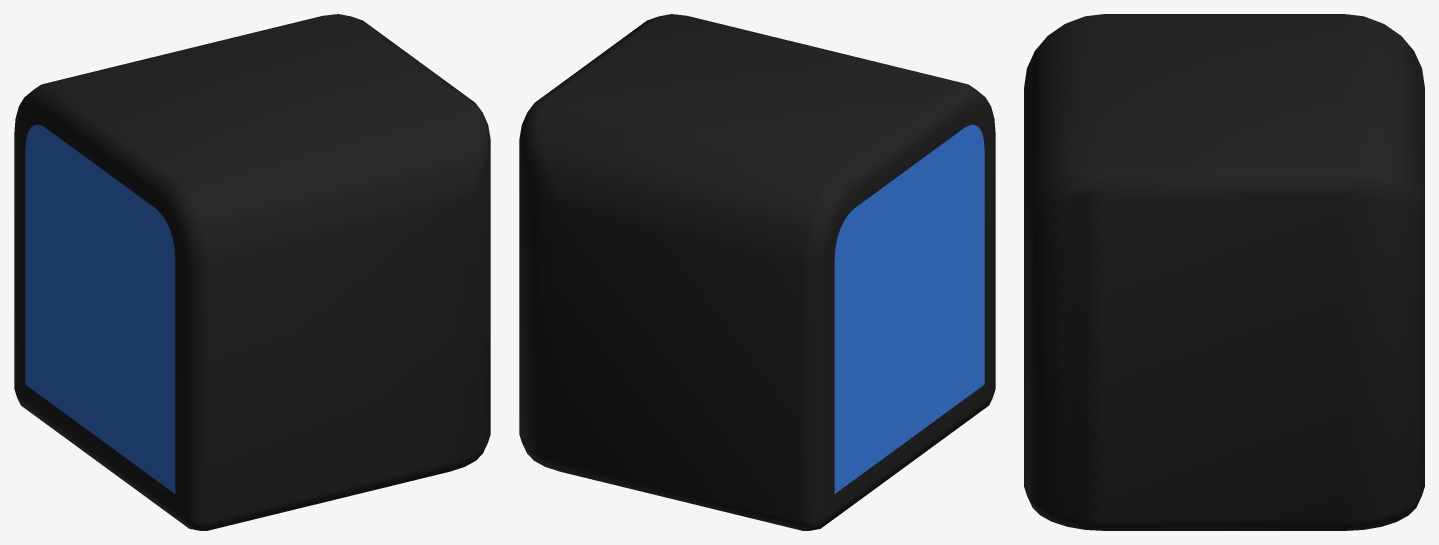
3 renders of one model, left to right at view 1: azimuth 30°, elevation 25°; view 2: azimuth 150°, elevation 25°; view 3: azimuth 270°, elevation 25°, orthographic. The views are drawn at different scales.
Visible parts, largest first — view 1: 2; view 2: 2; view 3: 2.
Boxes of the visible parts, left/top/right/bottom form: 2: left=14, top=14, right=490, bottom=530; 2: left=519, top=14, right=995, bottom=530; 2: left=1024, top=14, right=1424, bottom=530.
Bounding box in the file's own units: 2 × 2 × 2.
